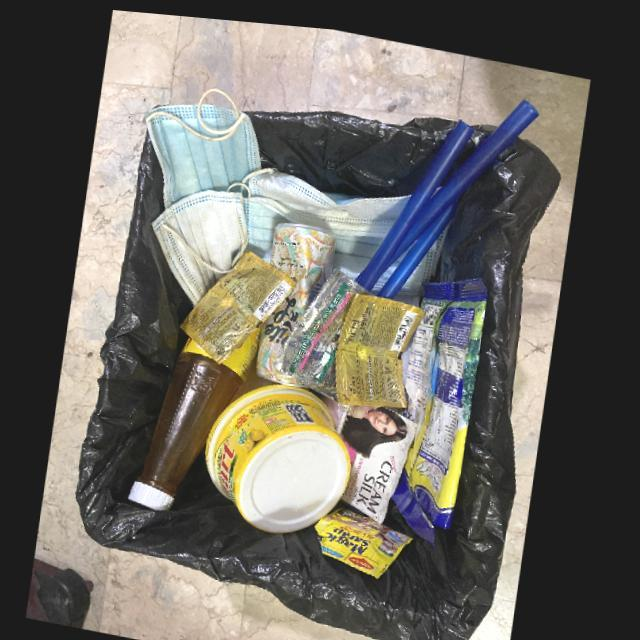glass: (132, 320, 263, 506)
metal: (259, 216, 338, 383)
plastic: (209, 377, 356, 528)
wrapper: (396, 267, 490, 537), (276, 261, 380, 395), (182, 244, 298, 359), (338, 286, 428, 400), (340, 398, 420, 516), (318, 500, 417, 571)
